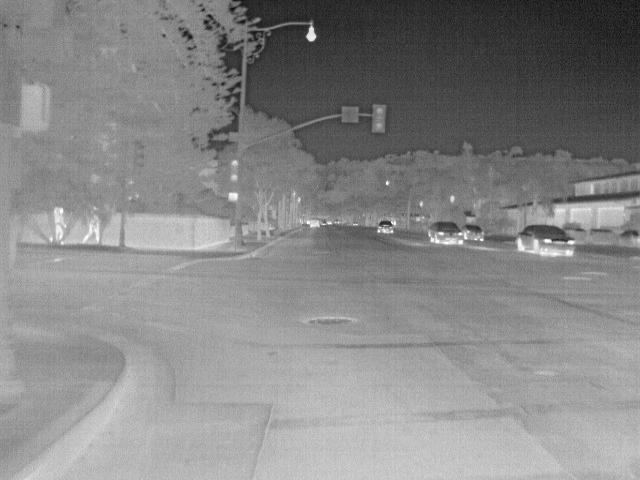car: (516, 223, 577, 258), (427, 222, 463, 248), (460, 222, 487, 243), (376, 222, 395, 236)
person: (81, 206, 103, 247), (53, 205, 68, 246)
